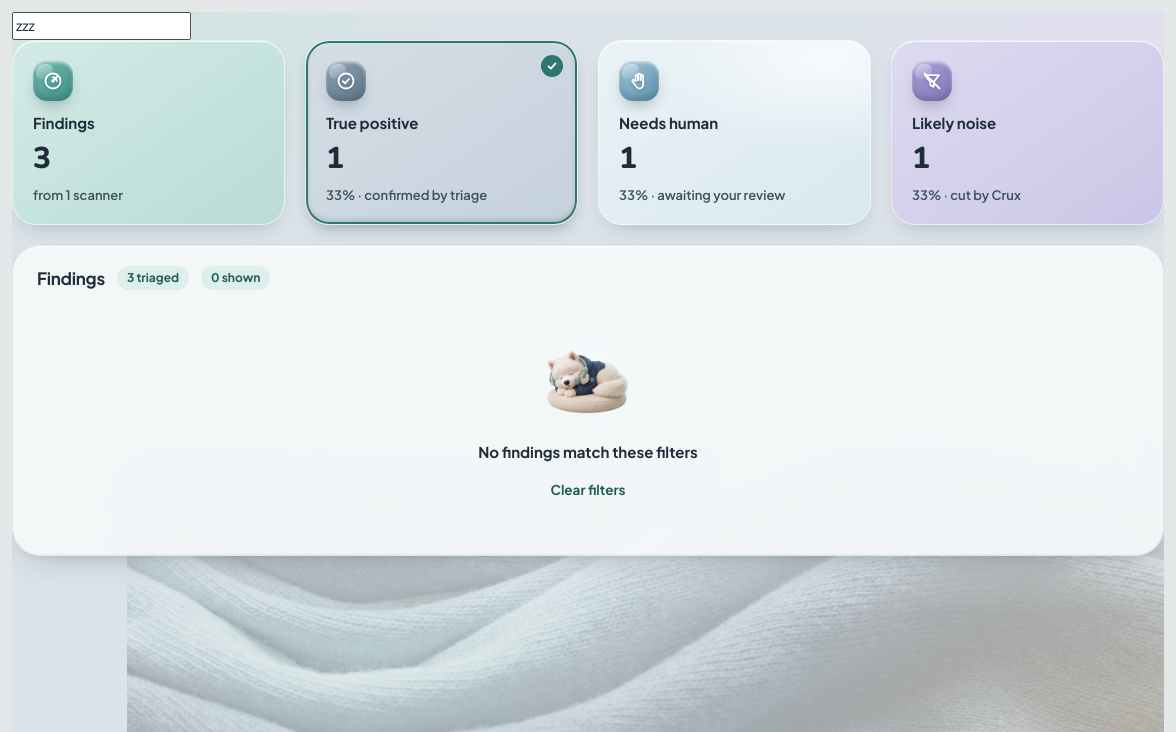
it: no match: a message and Clear filters, which resets the verdict filter and the search
Check: the text "No findings match these filters" is shown, box x1=478 y1=442 x2=698 y2=463
Check: the element "Clear filters" is shown, box x1=478 y1=334 x2=698 y2=507
Click the button "Clear filters" at (588, 491), box x1=546 y1=475 x2=630 y2=507
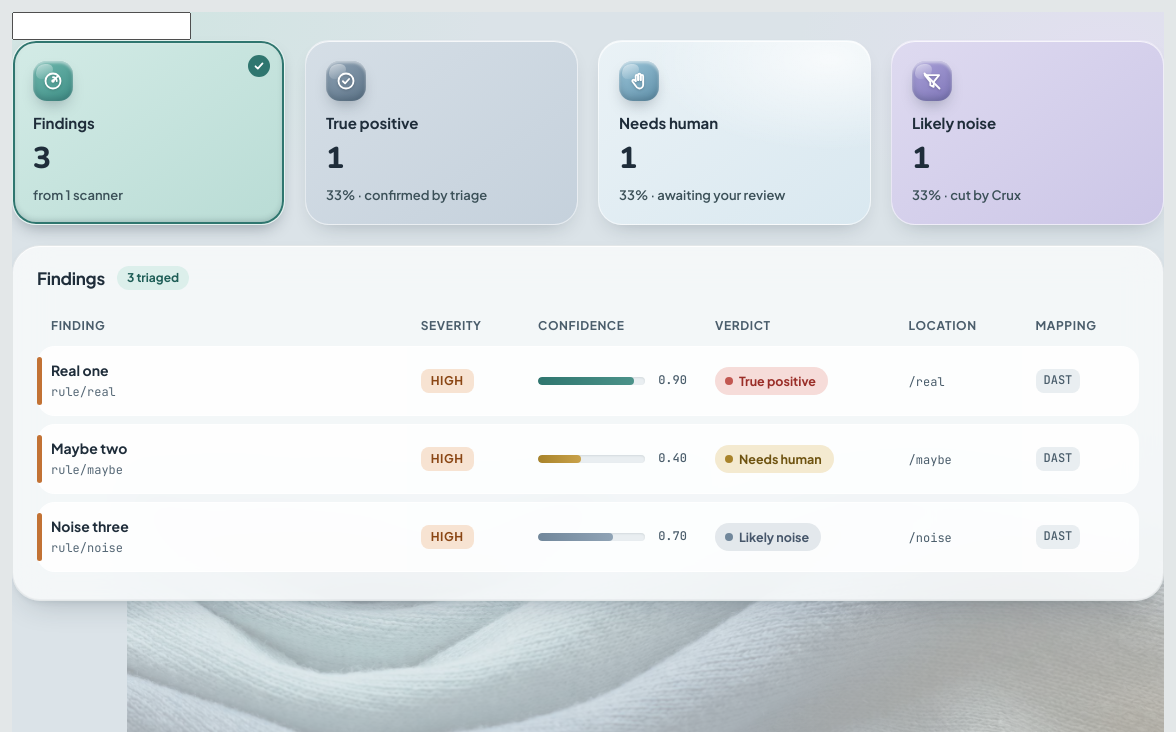
Check: the field named "q" is empty, box x1=12 y1=12 x2=191 y2=40
Check: the button "Clear filters" is gone
